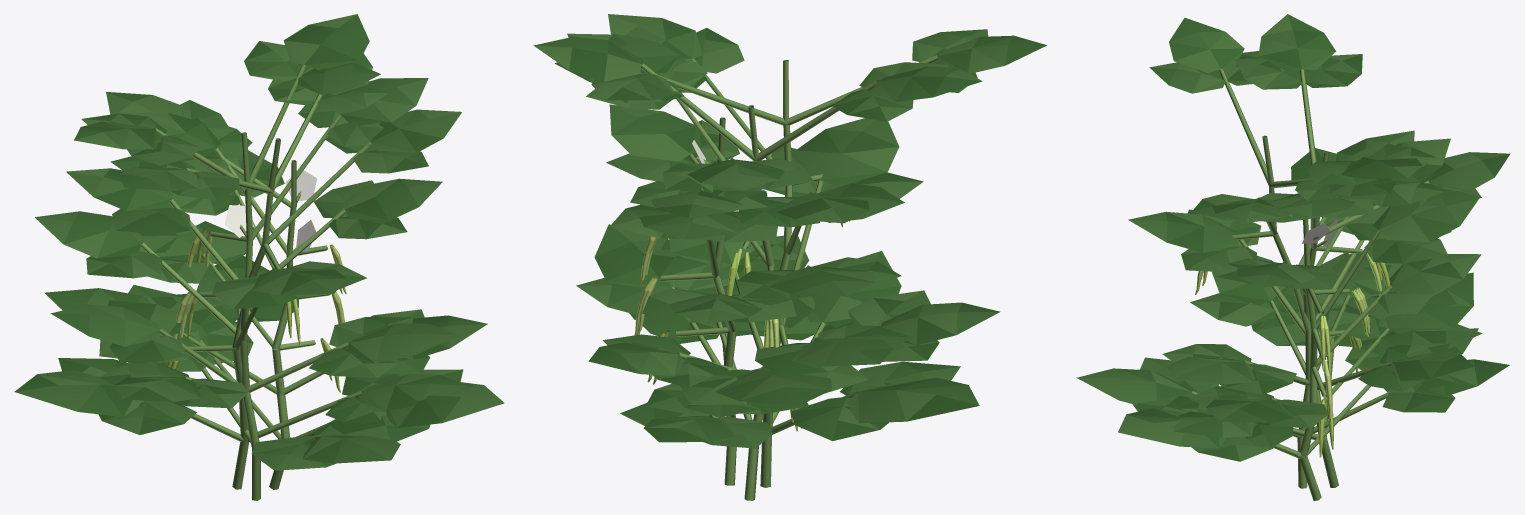
File: haricot_vert_fruits.glb
3 views of the same model, side by side, from view 1: azimuth 30°, elevation 25°; view 2: azimuth 150°, elevation 25°; view 3: azimuth 270°, elevation 25° (orthographic). The views are drawn at different scales.
Visible parts, largest first — view 1: Haricot_Feuilles, Haricot_Tiges, Haricot_Gousses, Haricot_Fleurs; view 2: Haricot_Feuilles, Haricot_Tiges, Haricot_Gousses; view 3: Haricot_Feuilles, Haricot_Tiges, Haricot_Gousses.
Part boxes in pixels (x1,y1,x2,y2): Haricot_Feuilles: [14, 14, 504, 470]; Haricot_Tiges: [141, 64, 371, 500]; Haricot_Gousses: [166, 228, 346, 392]; Haricot_Fleurs: [224, 170, 317, 251]; Haricot_Feuilles: [533, 14, 1046, 448]; Haricot_Tiges: [641, 55, 937, 500]; Haricot_Gousses: [634, 220, 849, 431]; Haricot_Feuilles: [1076, 14, 1510, 461]; Haricot_Tiges: [1192, 68, 1429, 500]; Haricot_Gousses: [1195, 253, 1389, 457].
Bounding box in the file's own units: 0.4256 × 0.412 × 0.4191.
